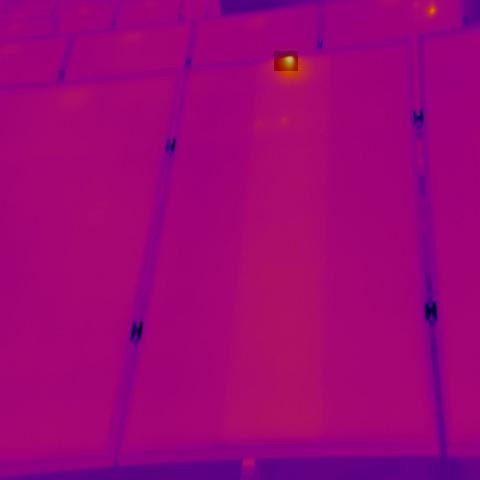fault: (274, 51, 299, 71)
